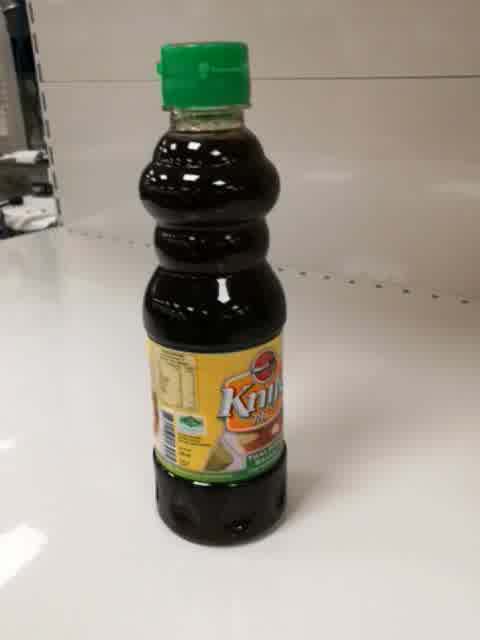cookingoil: (138, 41, 289, 549)
